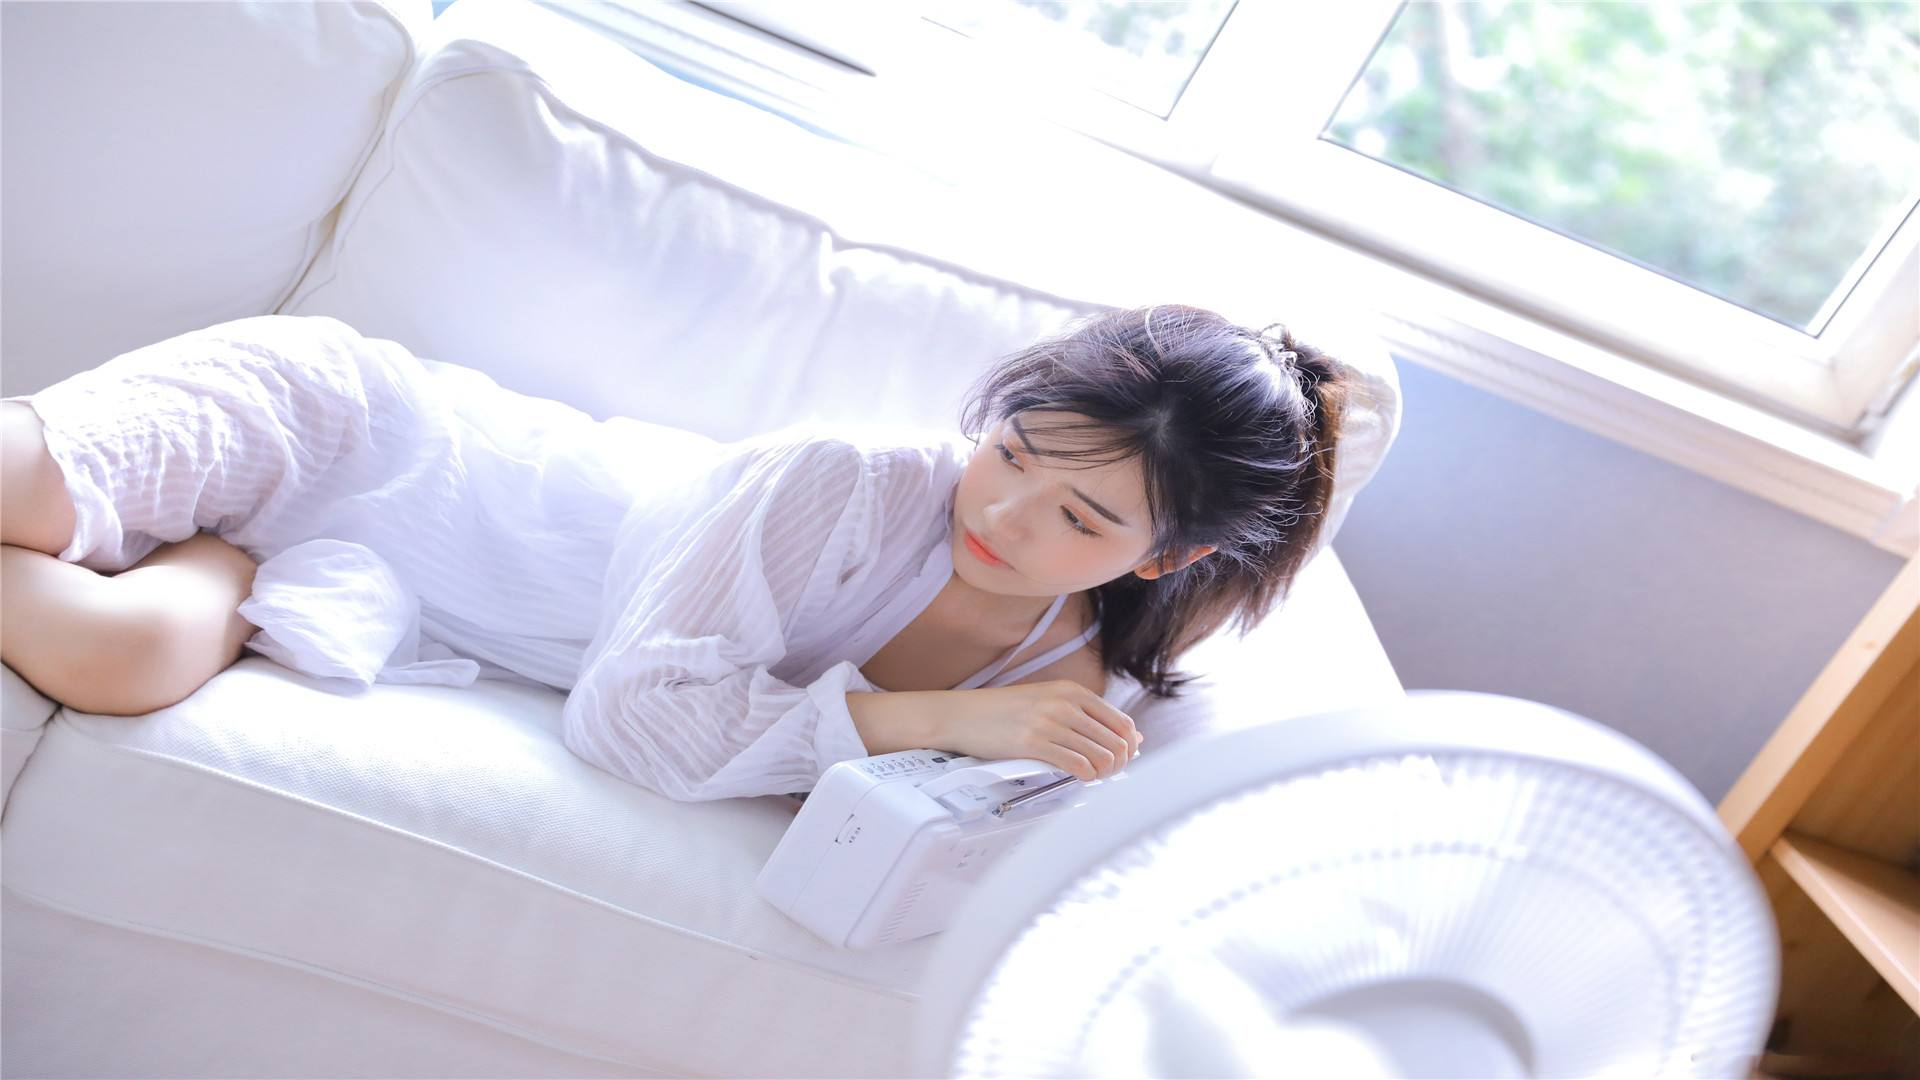person: (495, 270, 1383, 706)
